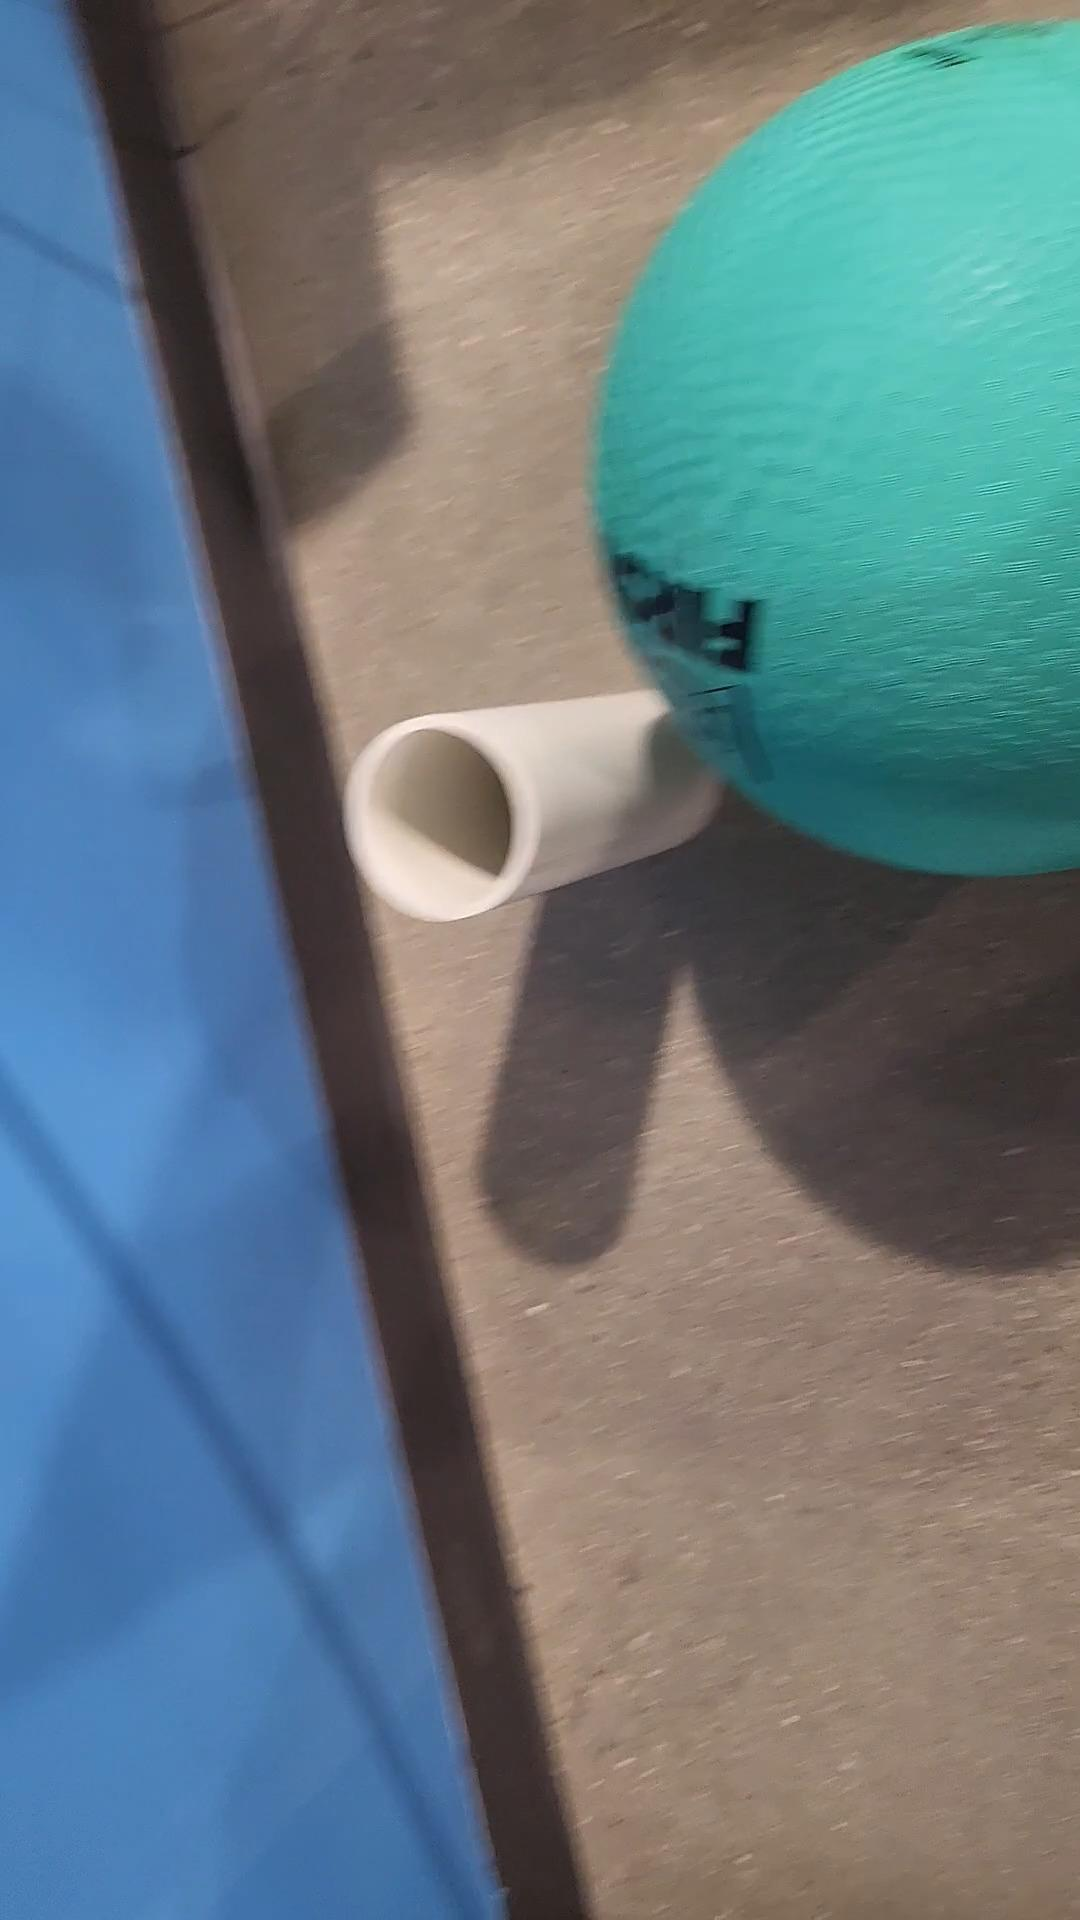algae: (595, 22, 1080, 873)
coral: (340, 692, 728, 920)
